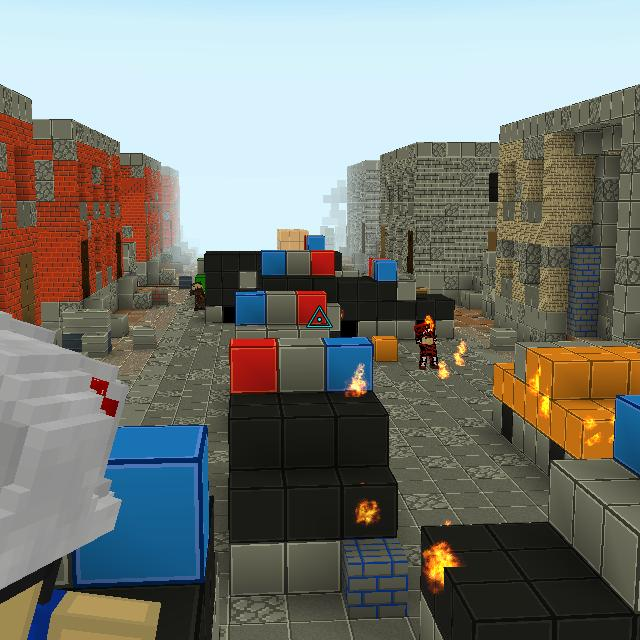enemy: (414, 321, 440, 371), (190, 280, 206, 311)
